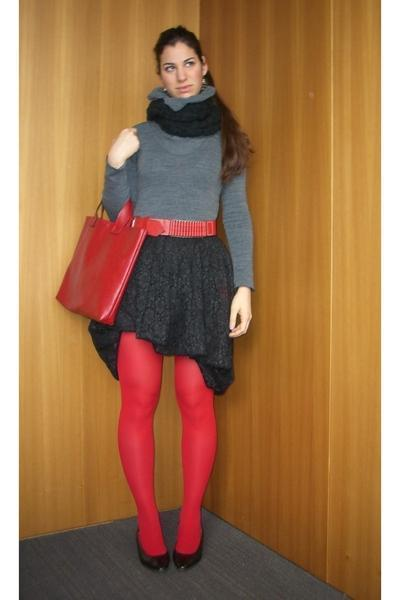bag: (55, 206, 139, 322)
jacket: (98, 117, 253, 304)
shoe: (139, 540, 200, 573)
skirt: (88, 228, 238, 395)
